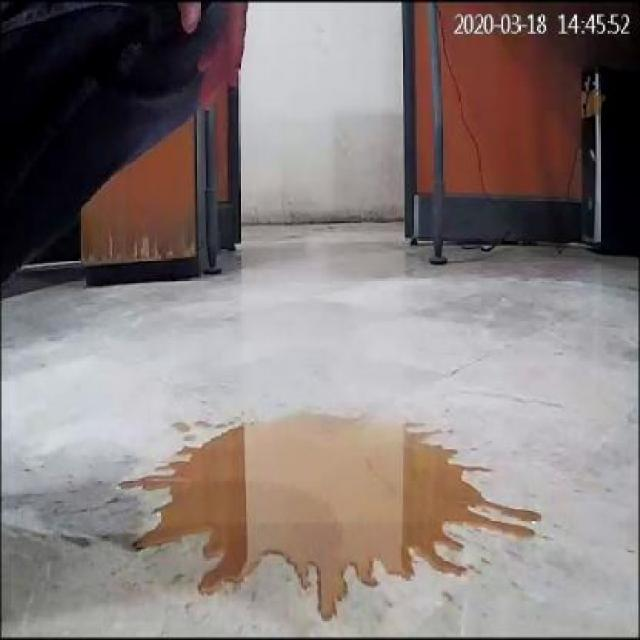spill: (120, 410, 546, 632)
